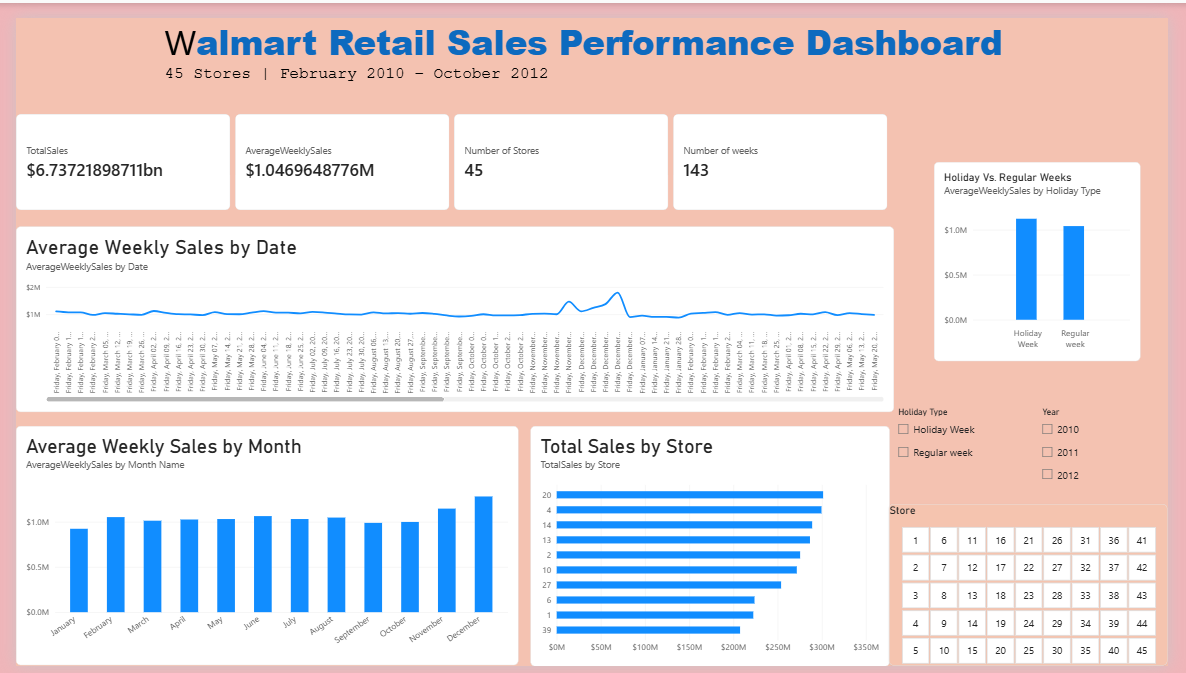

The dashboard page shown, as its layout file describes it:
{"tool":"powerbi","page":{"name":"Walmart Retail Sales Performance Dashboard","canvas":[1920,1080],"ordinal":0},"visuals":[{"type":"cardVisual","fields":{"Data":["Cleaned-walmart-sales-dataset-of-45stores.TotalSales","Cleaned-walmart-sales-dataset-of-45stores.AverageWeeklySales","Cleaned-walmart-sales-dataset-of-45stores.Number of Stores","Cleaned-walmart-sales-dataset-of-45stores.Number of weeks"]},"box":[0,160.4,1455,160.4],"z":0},{"type":"lineChart","title":"Average Weekly Sales by Date","fields":{"Category":["Cleaned-walmart-sales-dataset-of-45stores.Date"],"Y":["Cleaned-walmart-sales-dataset-of-45stores.AverageWeeklySales"]},"box":[0,346.6,1463.6,309.3],"z":2},{"type":"clusteredColumnChart","title":"Average Weekly Sales by Month","fields":{"Category":["Date Table.Month Name"],"Y":["Cleaned-walmart-sales-dataset-of-45stores.AverageWeeklySales"]},"box":[0,680.5,837.1,398.6],"z":3},{"type":"slicer","fields":{"Values":["Cleaned-walmart-sales-dataset-of-45stores.Holiday Type"]},"box":[1463.6,647.3,222.1,148.1],"z":12},{"type":"clusteredBarChart","title":"Total Sales by Store","fields":{"Category":["Cleaned-walmart-sales-dataset-of-45stores.Store"],"Y":["Cleaned-walmart-sales-dataset-of-45stores.TotalSales"]},"box":[856.4,678.8,598.6,401],"z":13},{"type":"textbox","box":[1212.9,1042.1,179.4,37],"z":14},{"type":"textbox","box":[247.5,0,1455,202.5],"z":15},{"type":"clusteredColumnChart","title":"Holiday Vs. Regular Weeks ","fields":{"Category":["Cleaned-walmart-sales-dataset-of-45stores.Holiday Type"],"Y":["Cleaned-walmart-sales-dataset-of-45stores.AverageWeeklySales"]},"box":[1529.5,240.6,343.7,332.3],"z":17},{"type":"slicer","title":"Store","fields":{"Values":["Cleaned-walmart-sales-dataset-of-45stores.Store"]},"box":[1455,810.6,464,269.2],"z":19},{"type":"slicer","fields":{"Values":["Date Table.Year"]},"box":[1701.4,647.3,151.1,162.5],"z":21}]}

Visuals, with their boxes in screenshot pixels (x1, y1, x2, y2), scaled from the page's 1920x1080 canvas onto the 1186x673 screenshot:
cardVisual - Cleaned-walmart-sales-dataset-of-45stores.TotalSales x Cleaned-walmart-sales-dataset-of-45stores.AverageWeeklySales: bbox=[0, 100, 899, 200]
"Average Weekly Sales by Date" lineChart: bbox=[0, 216, 904, 409]
"Average Weekly Sales by Month" clusteredColumnChart: bbox=[0, 424, 517, 672]
slicer - Cleaned-walmart-sales-dataset-of-45stores.Holiday Type: bbox=[904, 403, 1041, 496]
"Total Sales by Store" clusteredBarChart: bbox=[529, 423, 899, 672]
textbox: bbox=[749, 649, 860, 672]
textbox: bbox=[153, 0, 1052, 126]
"Holiday Vs. Regular Weeks " clusteredColumnChart: bbox=[945, 150, 1157, 357]
"Store" slicer: bbox=[899, 505, 1185, 672]
slicer - Date Table.Year: bbox=[1051, 403, 1144, 505]
